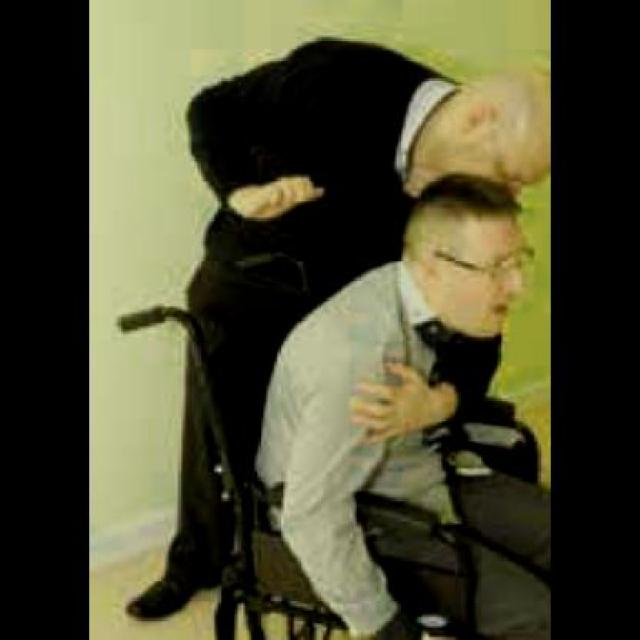wheelchairs: (115, 304, 543, 640)
